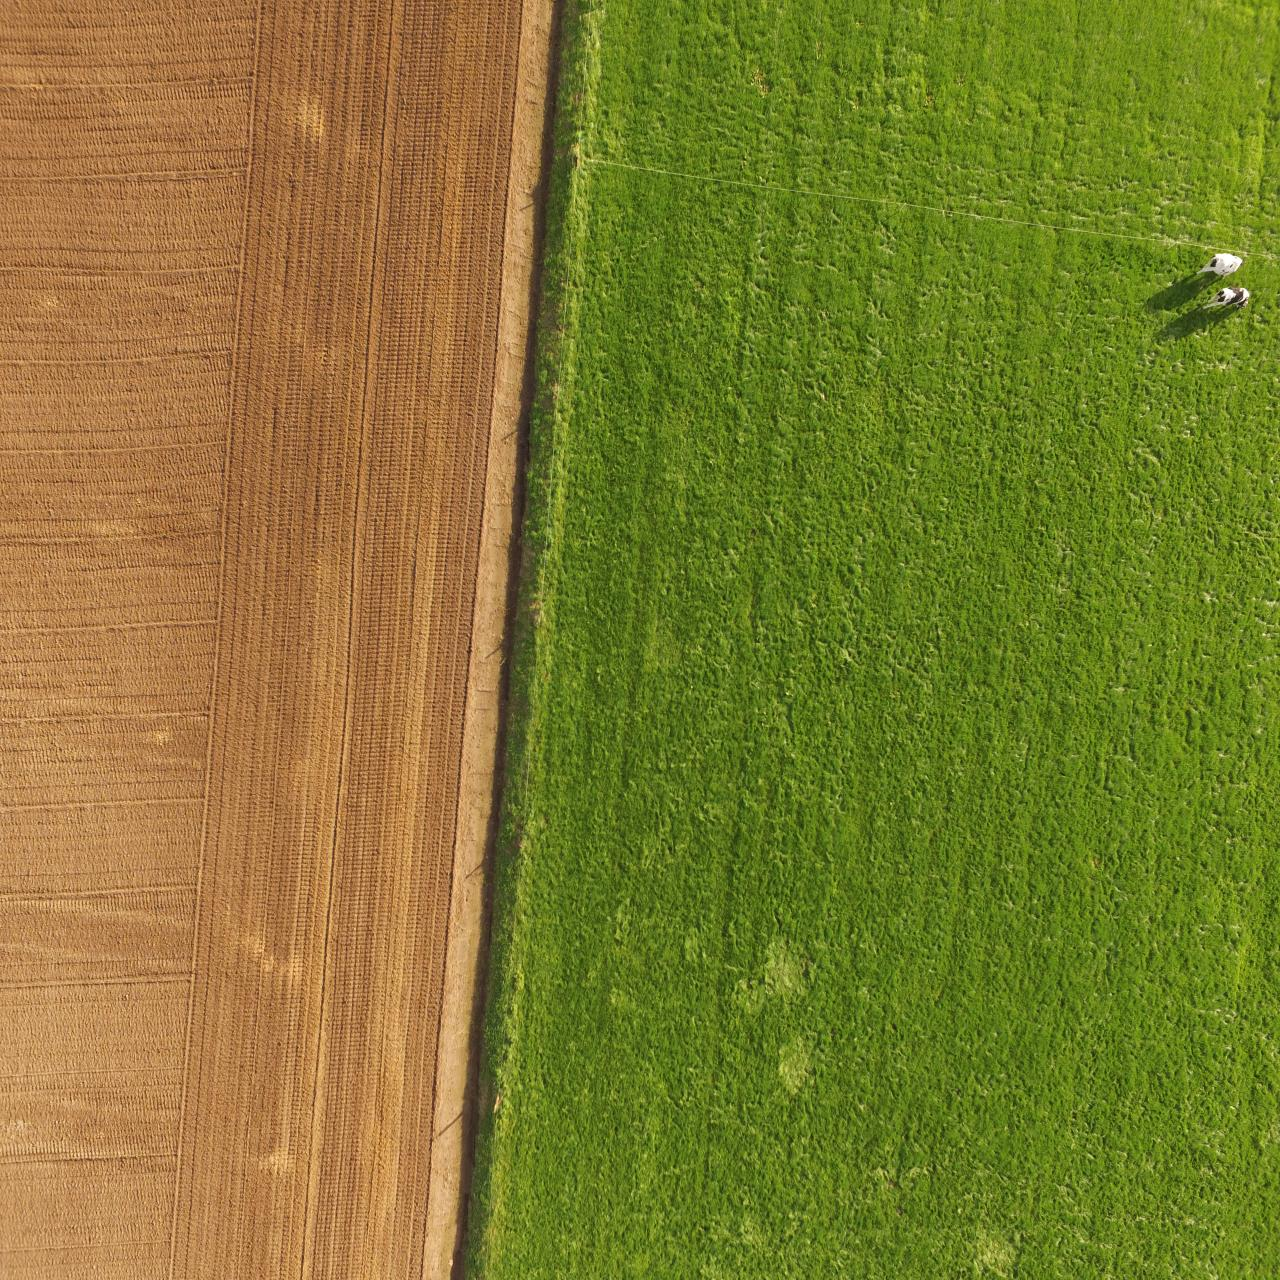cow: (1201, 283, 1250, 313), (1195, 252, 1243, 280)
